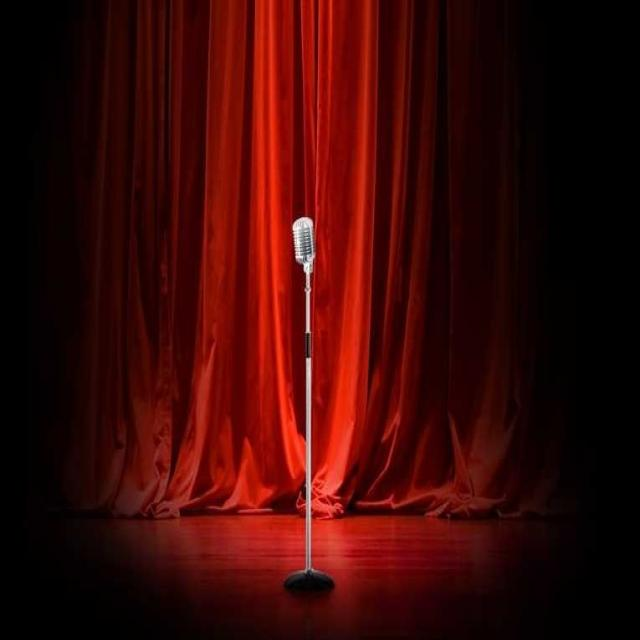microphone: (292, 220, 315, 285)
